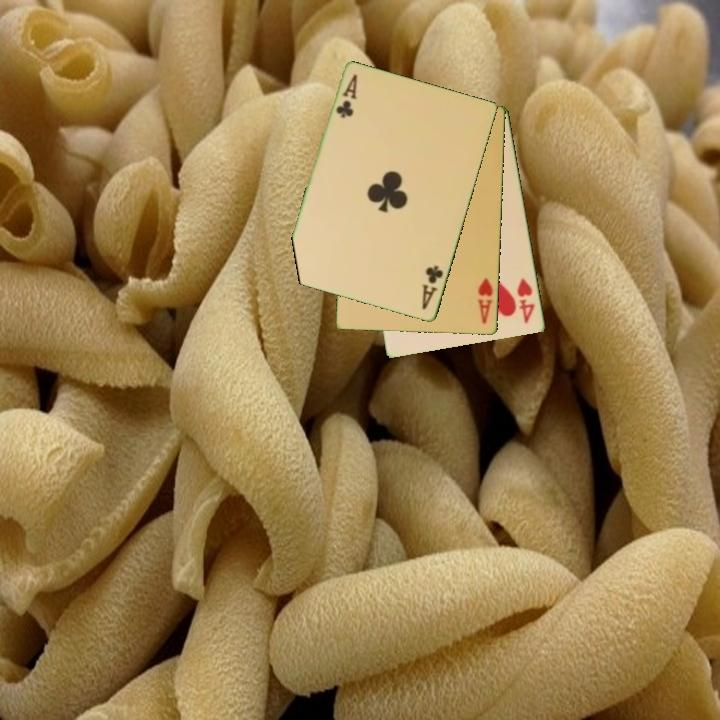4h: (514, 275, 538, 327)
Ac: (419, 262, 446, 313), (333, 71, 360, 121)
Ah: (474, 275, 496, 327)
